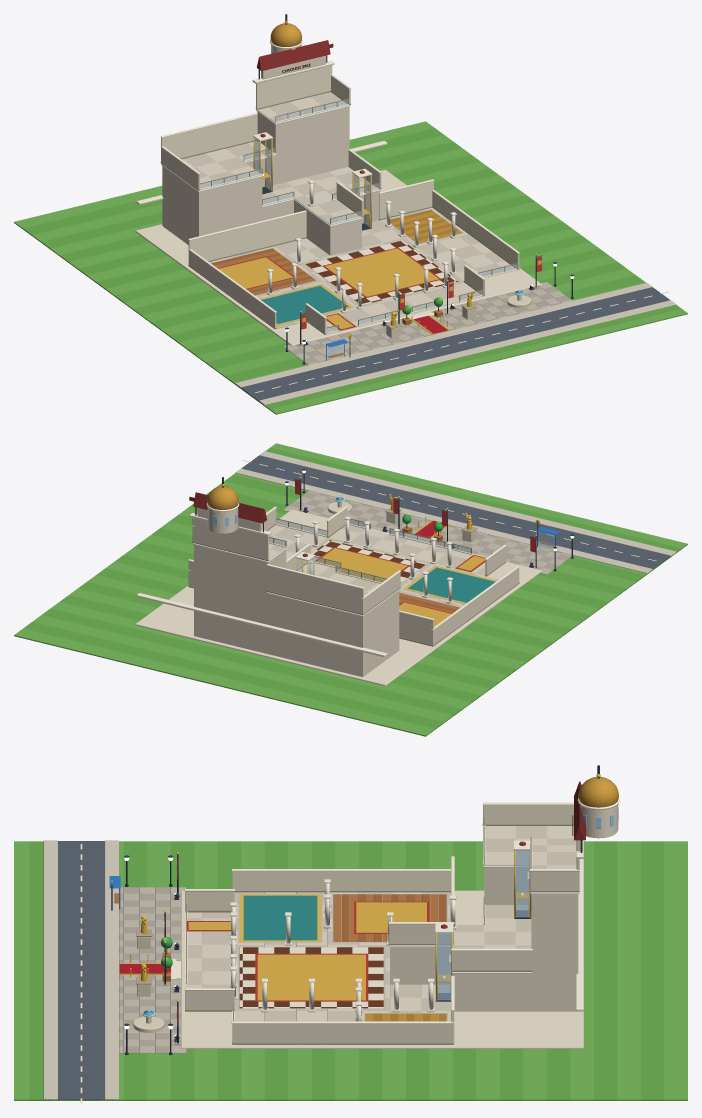
File: shell.glb
3 renders of one model, top to bottom at view 1: azimuth 30°, elevation 25°; view 2: azimuth 150°, elevation 25°; view 3: azimuth 270°, elevation 25°, orthographic. The views are drawn at different scales.
Visible parts, largest first — view 1: grounds, building, floor_floor_2, floor_floor_3, floor_floor_1, crown, grand_2, lift_floor_2, lift_floor_1, dome; view 2: grounds, building, floor_floor_2, floor_floor_3, crown, floor_floor_1, grand_2, dome, grand_4; view 3: grounds, building, floor_floor_1, floor_floor_3, floor_floor_2, crown, lift_floor_1, lift_floor_2, dome, grand_4, grand_3, grand_2.
Boxes of the visible parts, <box> form: grounds: <box>14,121,687,414</box>; building: <box>135,169,541,345</box>; floor_floor_2: <box>160,113,276,244</box>; floor_floor_3: <box>255,65,350,184</box>; floor_floor_1: <box>261,149,381,255</box>; crown: <box>136,14,387,204</box>; grand_2: <box>298,253,542,345</box>; lift_floor_2: <box>253,132,273,194</box>; lift_floor_1: <box>352,168,372,230</box>; dome: <box>270,23,302,46</box>; grounds: <box>14,443,687,736</box>; building: <box>135,506,541,685</box>; floor_floor_2: <box>266,564,400,677</box>; floor_floor_3: <box>192,518,286,653</box>; crown: <box>136,477,387,657</box>; floor_floor_1: <box>286,543,341,578</box>; grand_2: <box>294,476,538,568</box>; dome: <box>207,486,238,509</box>; grand_4: <box>385,494,477,542</box>; grounds: <box>14,840,687,1103</box>; building: <box>171,856,583,1048</box>; floor_floor_1: <box>388,895,532,1011</box>; floor_floor_3: <box>529,837,579,1011</box>; floor_floor_2: <box>482,802,575,904</box>; crown: <box>572,765,619,1011</box>; lift_floor_1: <box>435,923,453,1001</box>; lift_floor_2: <box>513,840,531,918</box>; dome: <box>578,776,618,807</box>; grand_4: <box>136,916,151,996</box>; grand_3: <box>119,892,179,1041</box>; grand_2: <box>161,852,179,1044</box>.
Size of the model in its own units: 39.7 by 15.92 by 43.
